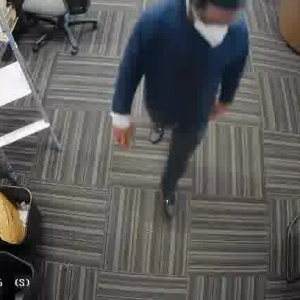person: (114, 0, 261, 220)
